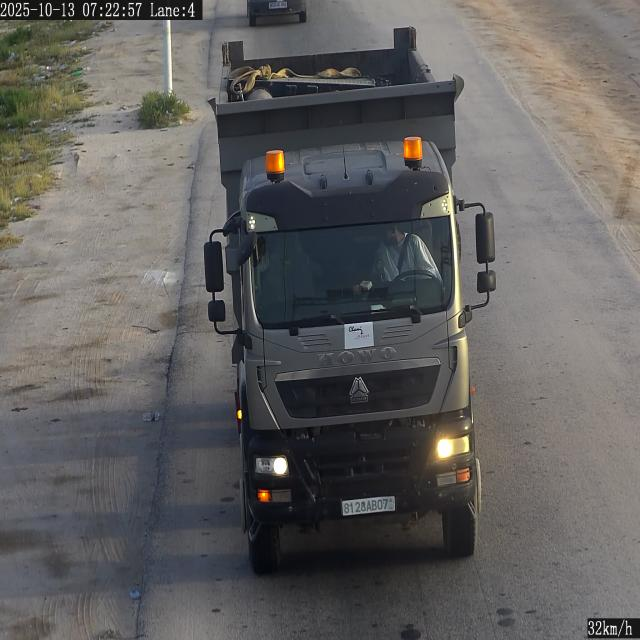BUS: (341, 496, 396, 516), (269, 0, 287, 9)
